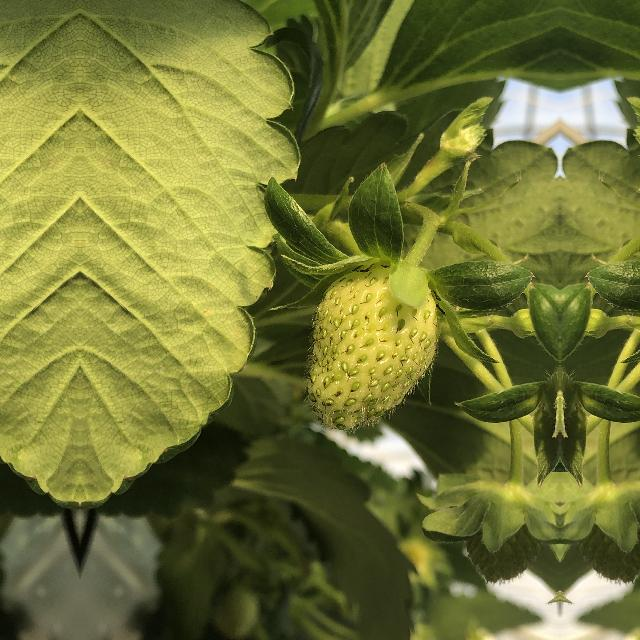Health_25: (313, 249, 439, 435)
